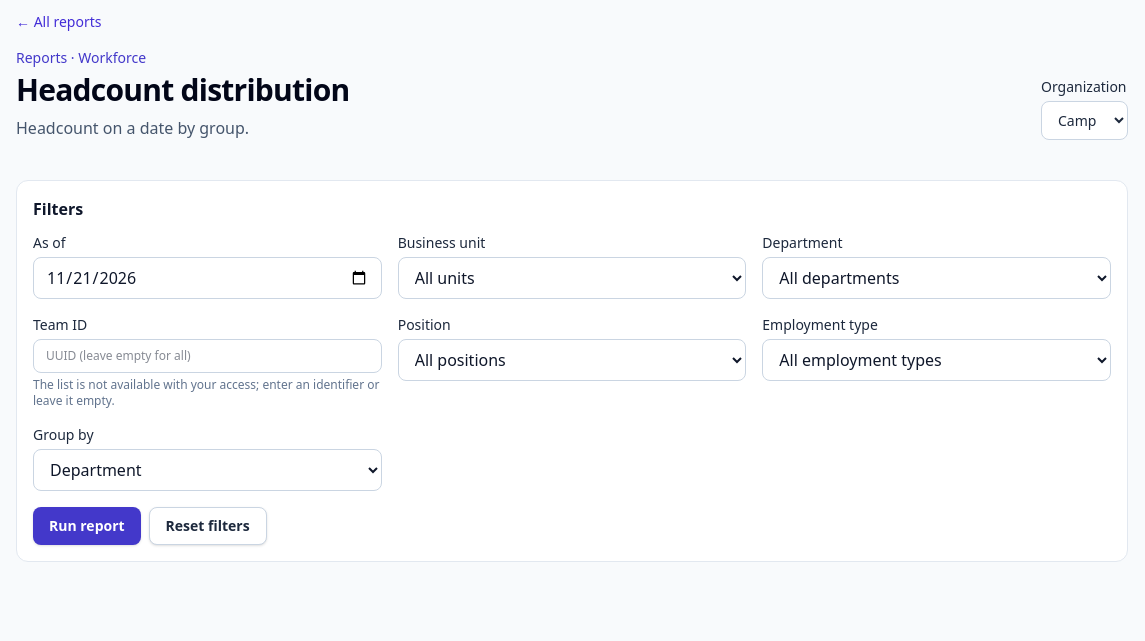
Test: ReportPage › checks filters before running and shows API filter errors
Expected: the form named "Report filters" is shown, [33,233,1111,545]
Type "not-a-uuid" into the field labelled "Team ID" at (207, 356), box [33,339,382,373]
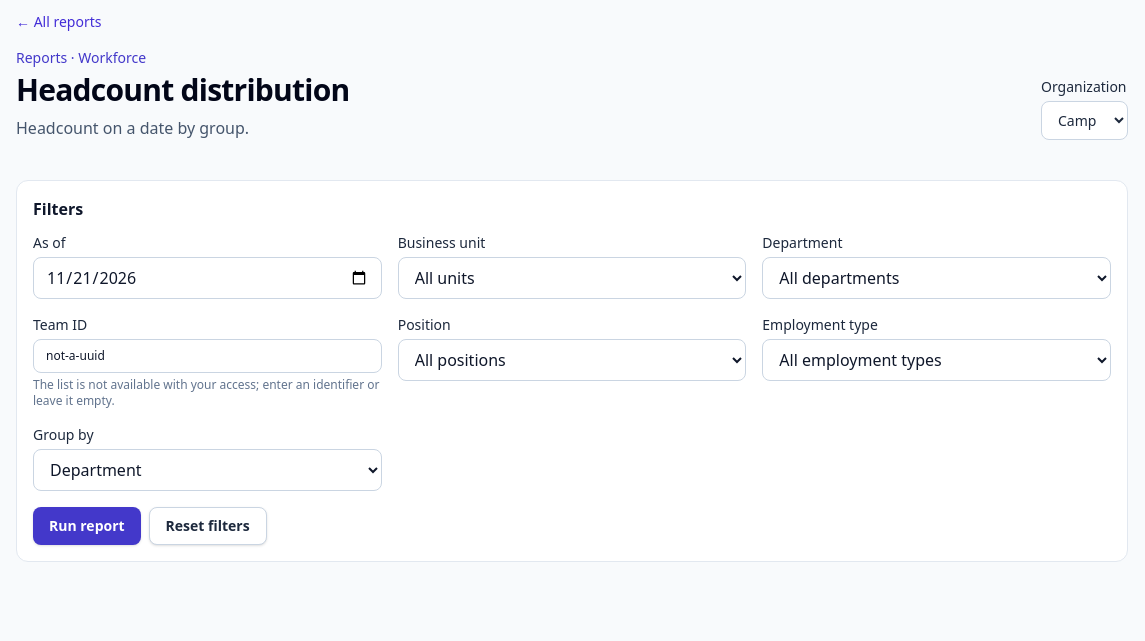
Click the button "Run report" at (87, 526), box [33,507,141,545]
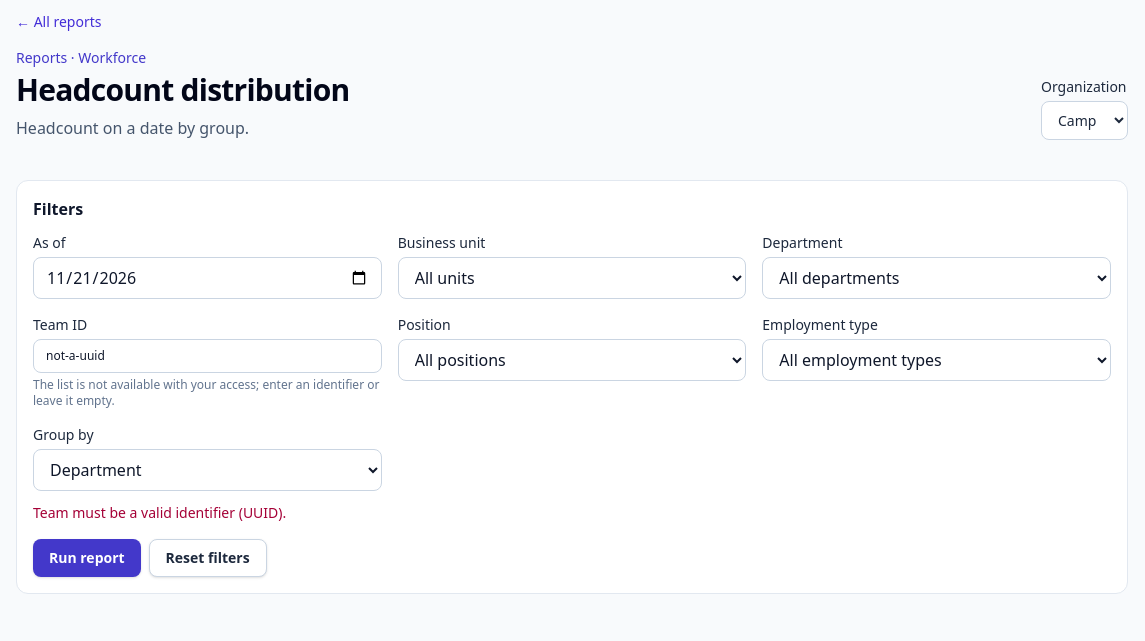
Expected: the text "Team must be a valid identifier (UUID)." is shown, [33,503,286,522]
Clear the field labelled "Team ID" at (207, 356), box [33,339,382,373]
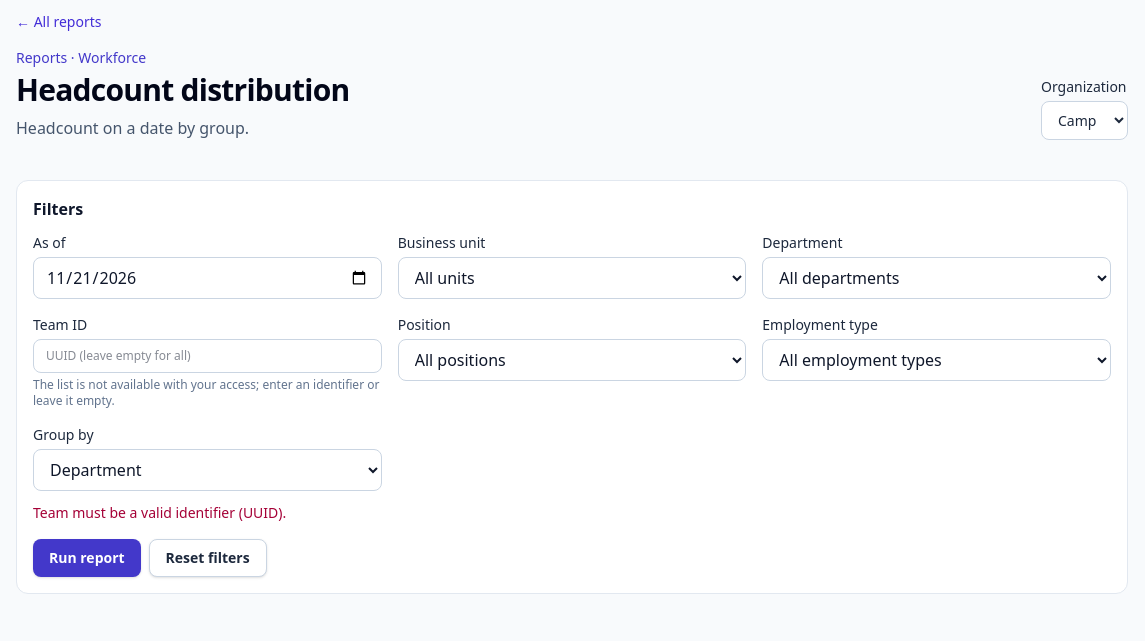
Click the button "Run report" at (87, 558), box [33,539,141,577]
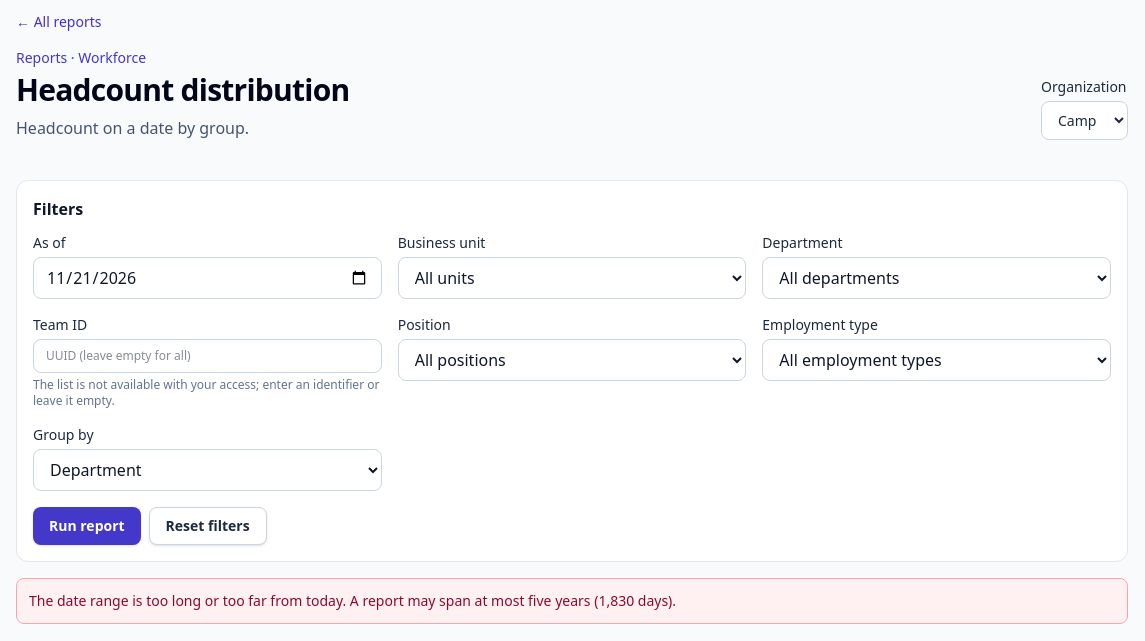
Expected: the message shows "at most five years", [29,591,676,610]
Click the button "Run report" at (87, 526), box [33,507,141,545]
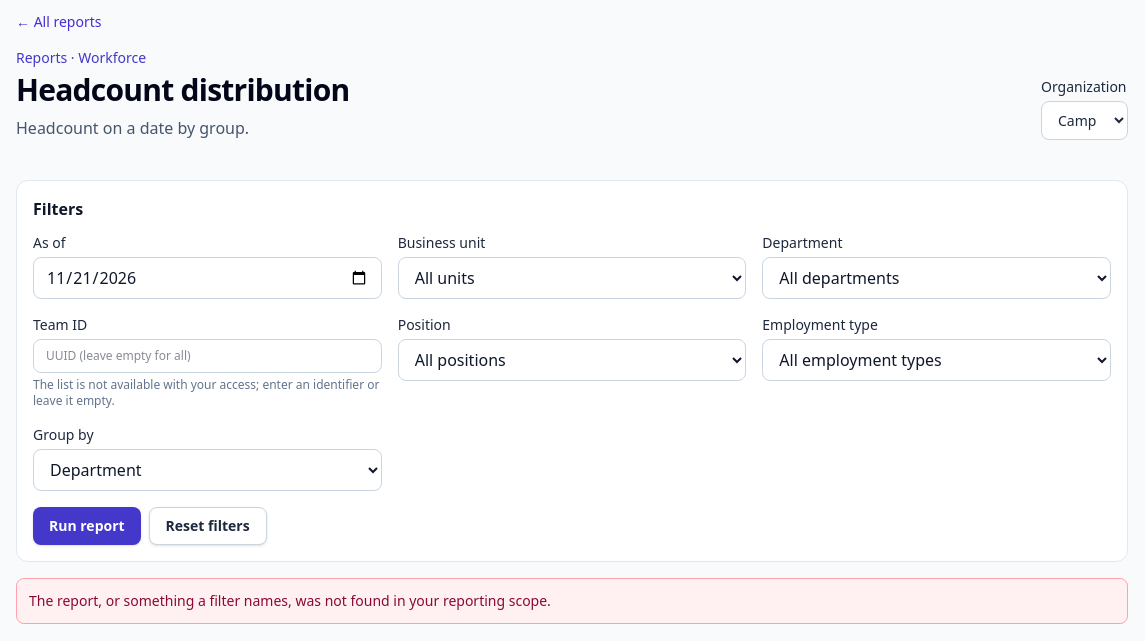
Expected: the message shows "not found in your reporting scope", [29,591,551,610]
